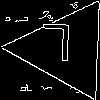L: (40, 24, 74, 70)
